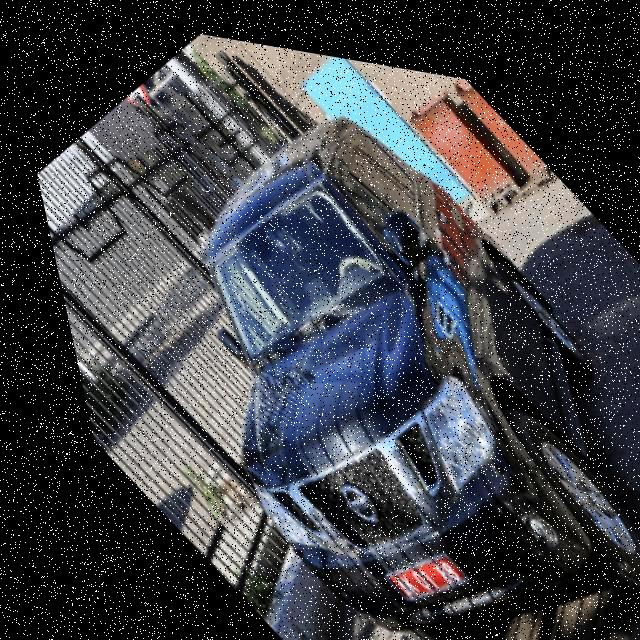license_plate: (352, 518, 456, 616)
